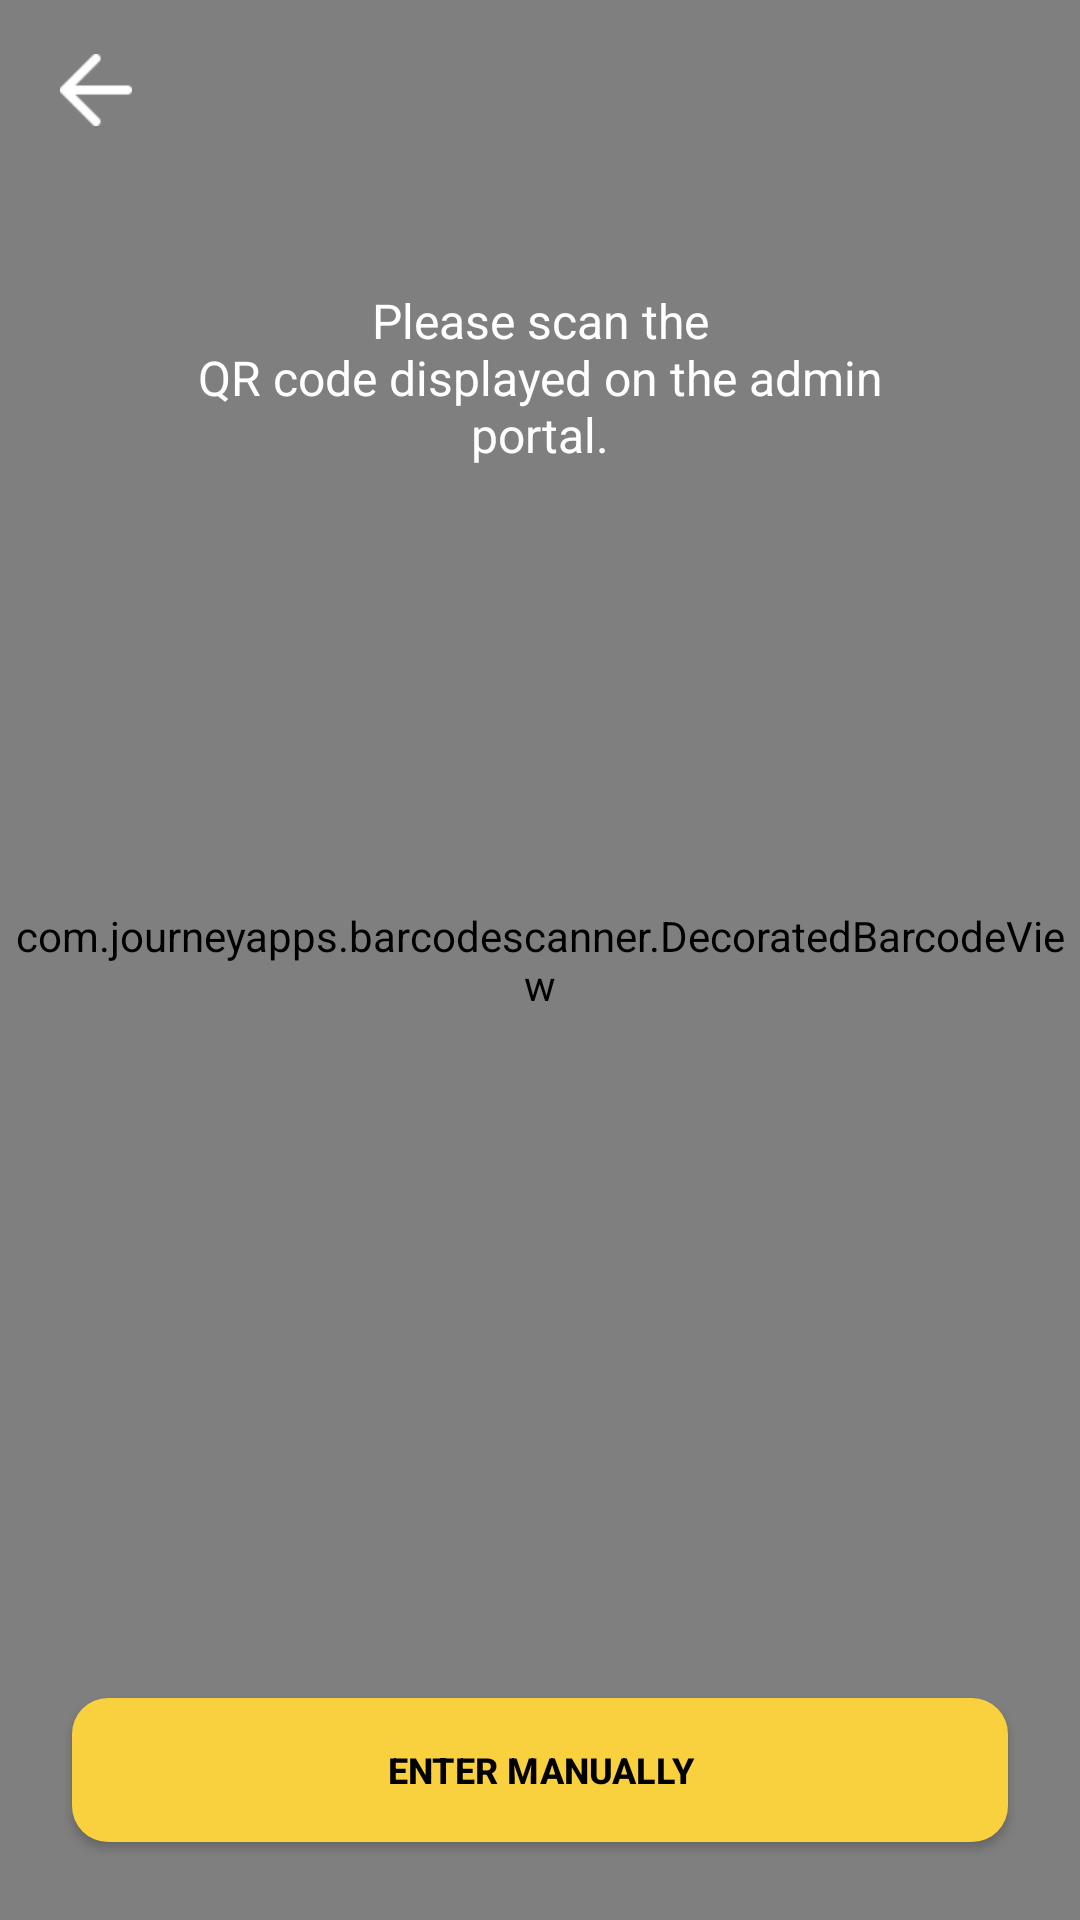

Where to tap for icons on this 1080w x 1920h app screen, as [x,y]:
back: [96,90]
